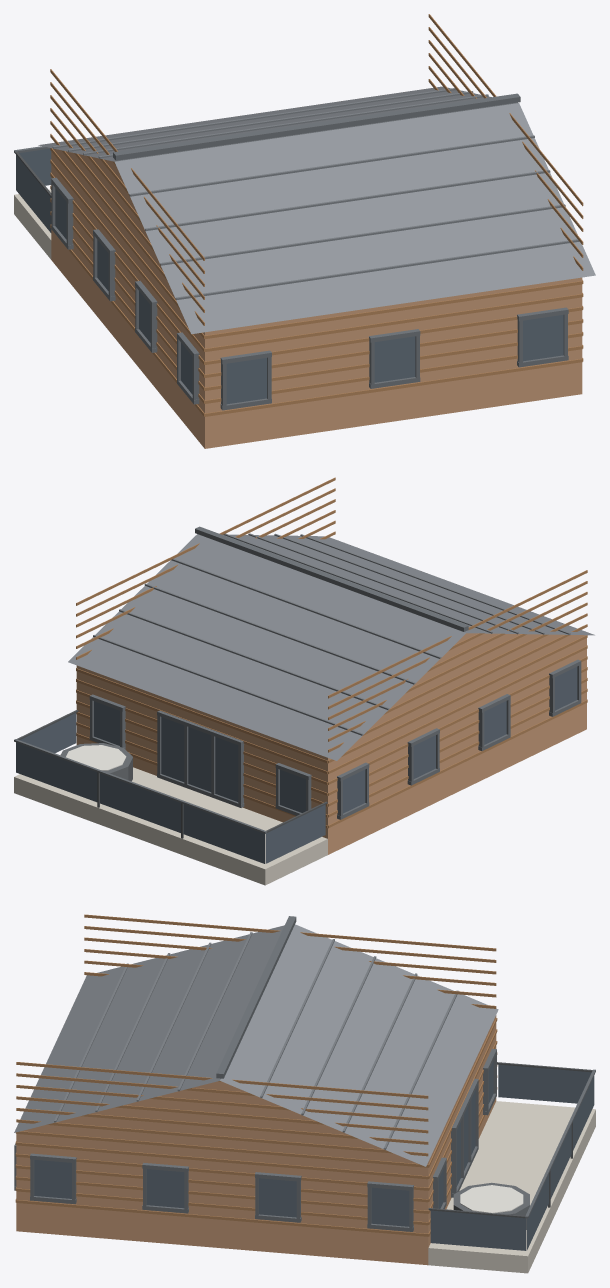
3 renders of one model, top to bottom at view 1: azimuth 30°, elevation 25°; view 2: azimuth 150°, elevation 25°; view 3: azimuth 270°, elevation 25°, orthographic. The views are drawn at different scales.
Visible parts, largest first — view 1: slate_lt, timber_stain, timber_stain_dk, slate_dk, slate, window_glass_016, window_glass_017, window_glass_015, window_glass_005, deck_grey, window_glass_003; view 2: slate_lt, timber_stain, timber_stain_dk, slate_dk, deck_grey, slate, window_glass_003, window_glass_001, window_glass_002, window_glass_005, window_glass_008, window_glass_006 (+11 smaller); view 3: slate_lt, timber_stain, timber_stain_dk, deck_grey, slate_dk, slate, window_glass_004, window_glass_005, string, window_glass_019, window_glass_021, window_glass_018 (+6 smaller).
Part boxes in pixels (x1,y1,x2,y2): slate_lt: (38,86,595,334); timber_stain: (51,149,582,448); timber_stain_dk: (50,14,583,416); slate_dk: (14,93,568,410); slate: (52,88,579,300); window_glass_016: (374,336,415,382); window_glass_017: (523,315,563,361); window_glass_015: (226,358,266,404); window_glass_005: (16,155,51,232); deck_grey: (14,189,51,259); window_glass_003: (19,148,51,185); slate_lt: (68,534,594,760); timber_stain: (76,633,586,854); timber_stain_dk: (76,477,587,828); slate_dk: (14,526,581,833); deck_grey: (14,754,327,885); slate: (93,533,570,735); window_glass_003: (183,804,264,863); window_glass_001: (16,742,97,802); window_glass_002: (100,773,180,832); window_glass_005: (265,804,325,863); window_glass_008: (215,737,238,801); window_glass_006: (161,717,184,781); slate_lt: (14,924,498,1166); timber_stain: (16,1015,496,1265); timber_stain_dk: (15,914,497,1236); deck_grey: (428,1101,595,1273); slate_dk: (14,916,595,1231); slate: (54,932,458,1149); window_glass_004: (430,1210,526,1250); window_glass_005: (498,1064,591,1103); string: (460,1185,523,1213); window_glass_019: (146,1169,184,1208); window_glass_021: (371,1187,409,1226); window_glass_018: (34,1160,71,1198).
Bounding box in the file's own units: 10.87 × 4.69 × 13.76.
